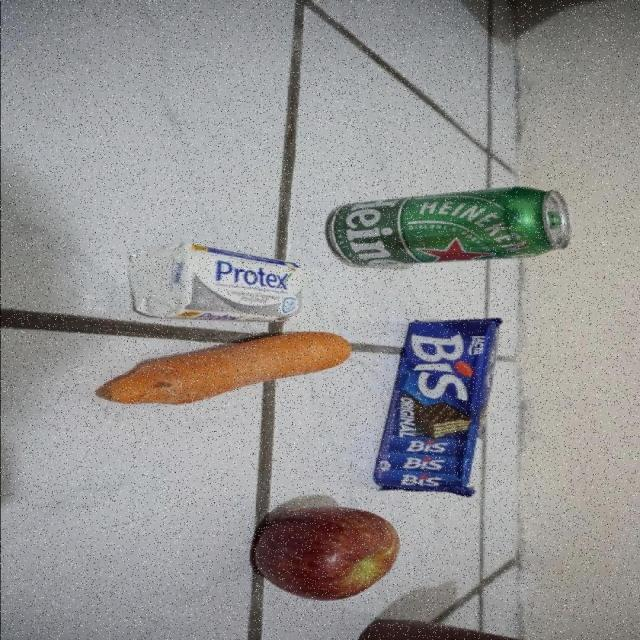Apple: (258, 504, 400, 602)
BeerCan: (334, 190, 570, 266)
Carrot: (96, 333, 350, 404)
Soap: (138, 245, 302, 322)
